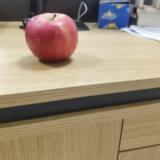apple: (25, 12, 79, 62)
